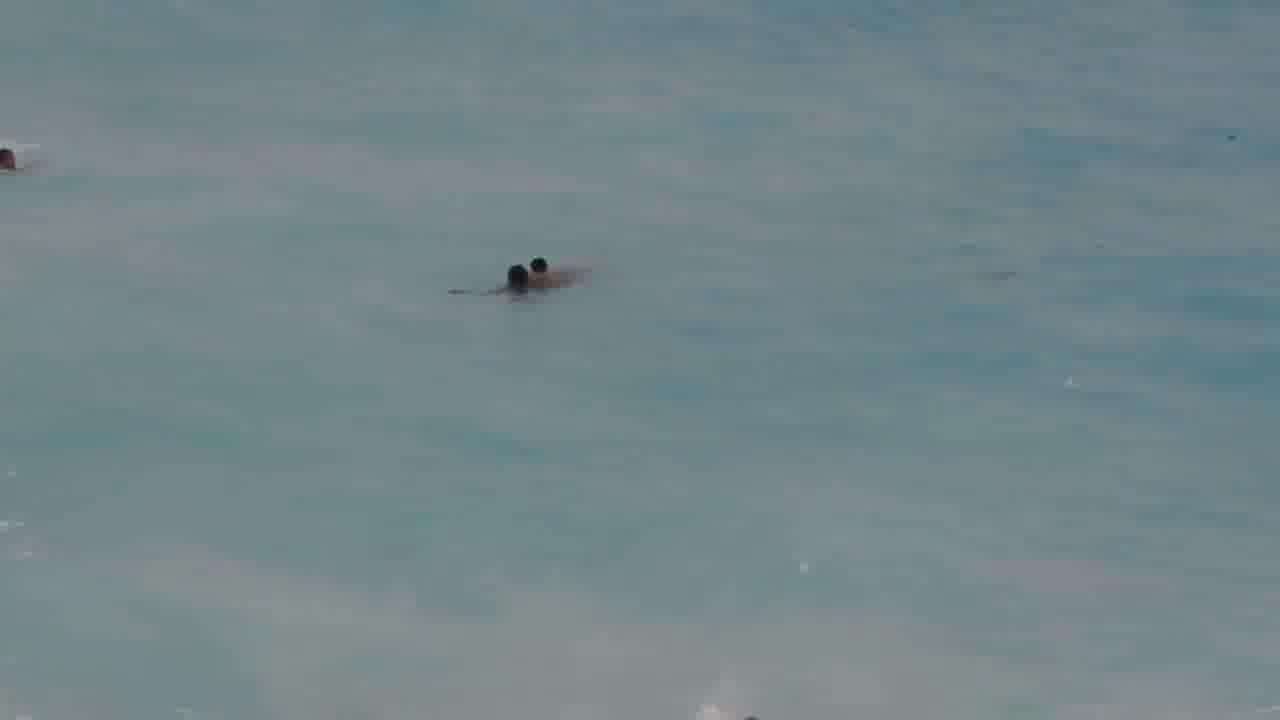swimmer: (442, 267, 534, 297), (527, 249, 590, 282), (0, 144, 27, 174)
